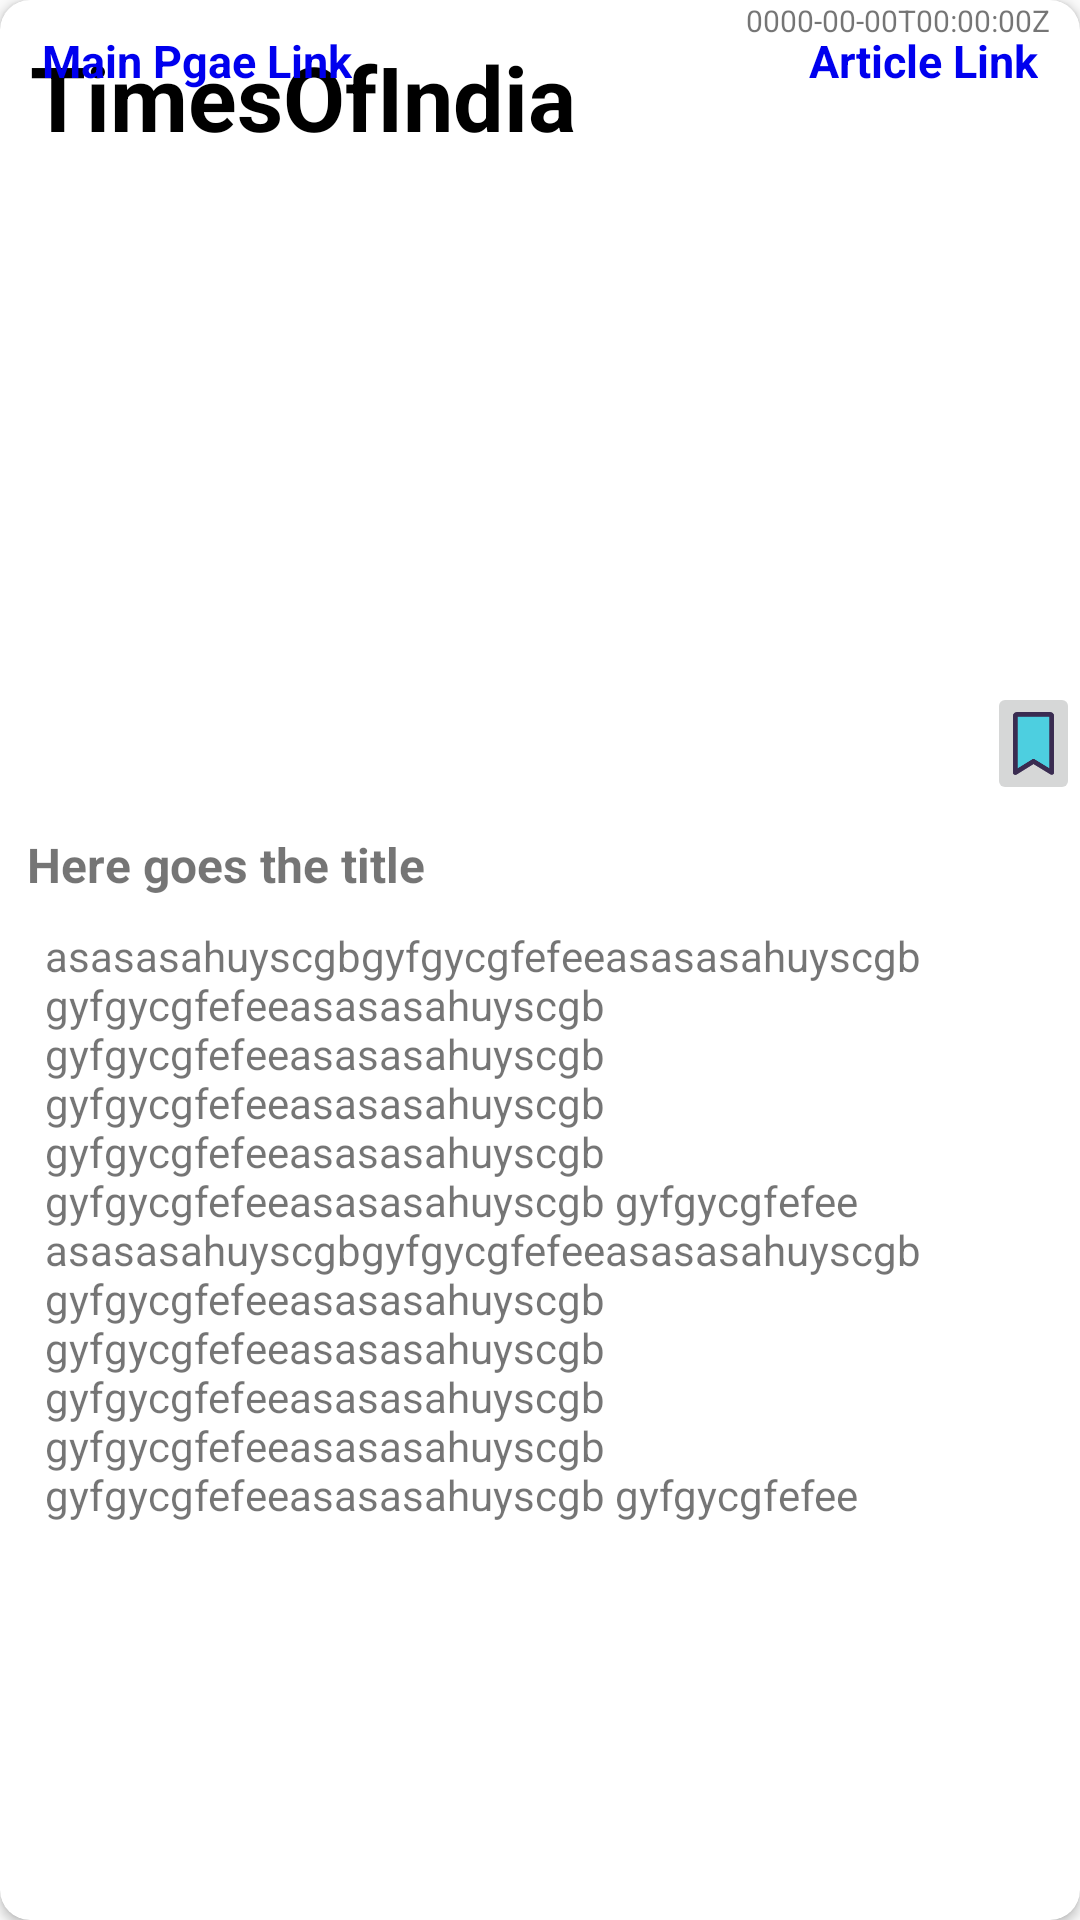

Icon bounding boxes for this 1080px×1920px phone screenshot, format {"left": x1, "top": y1, "right": x2, "bottom": y2}:
bookmark: {"left": 999, "top": 700, "right": 1068, "bottom": 787}
